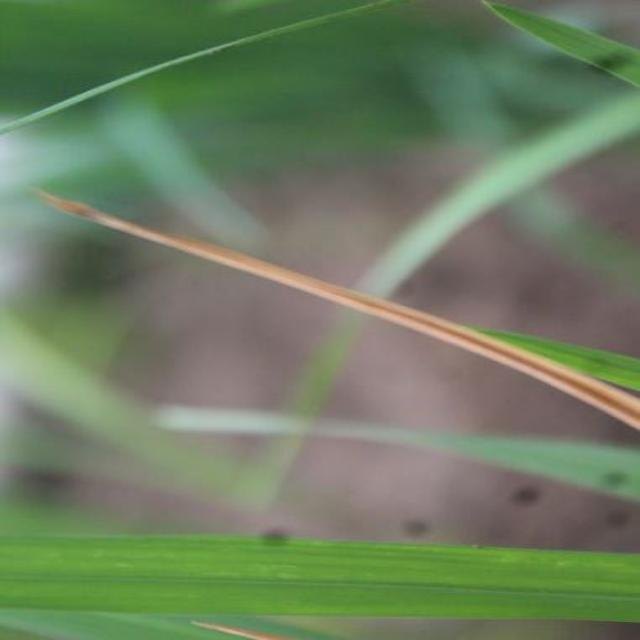Tungro: (15, 176, 640, 432)
